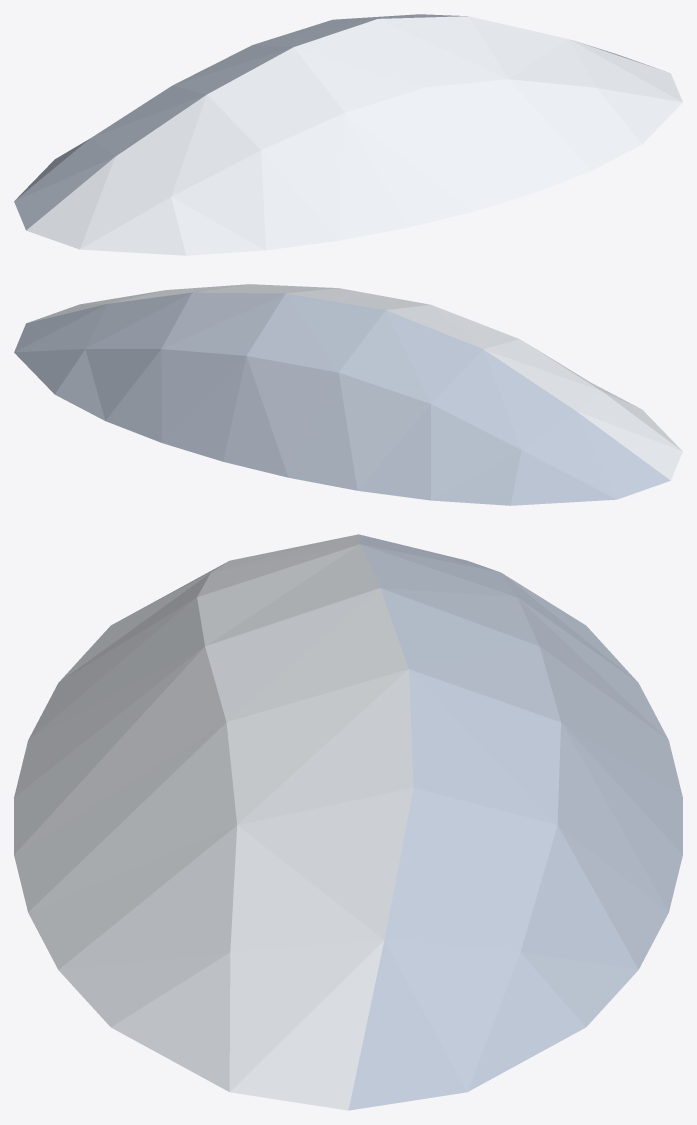
File: snow_drift.glb
3 views of the same model, one above another, from view 1: azimuth 30°, elevation 25°; view 2: azimuth 150°, elevation 25°; view 3: azimuth 270°, elevation 25° (orthographic). The views are drawn at different scales.
Parts seen in each view (by area): view 1: snow_drift; view 2: snow_drift; view 3: snow_drift.
Part boxes in pixels (left/top/right/bottom): snow_drift: left=14, top=14, right=682, bottom=255; snow_drift: left=14, top=284, right=682, bottom=505; snow_drift: left=14, top=534, right=682, bottom=1110.
Size of the model in its own units: 4 by 0.6494 by 1.99.
1 material, 1 textured.
